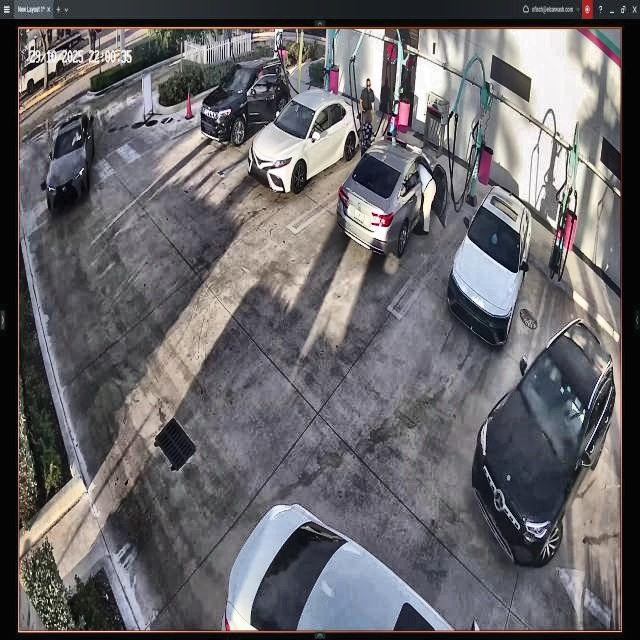Car: (338, 135, 450, 255), (451, 186, 532, 344), (249, 90, 358, 189), (200, 58, 292, 147)
